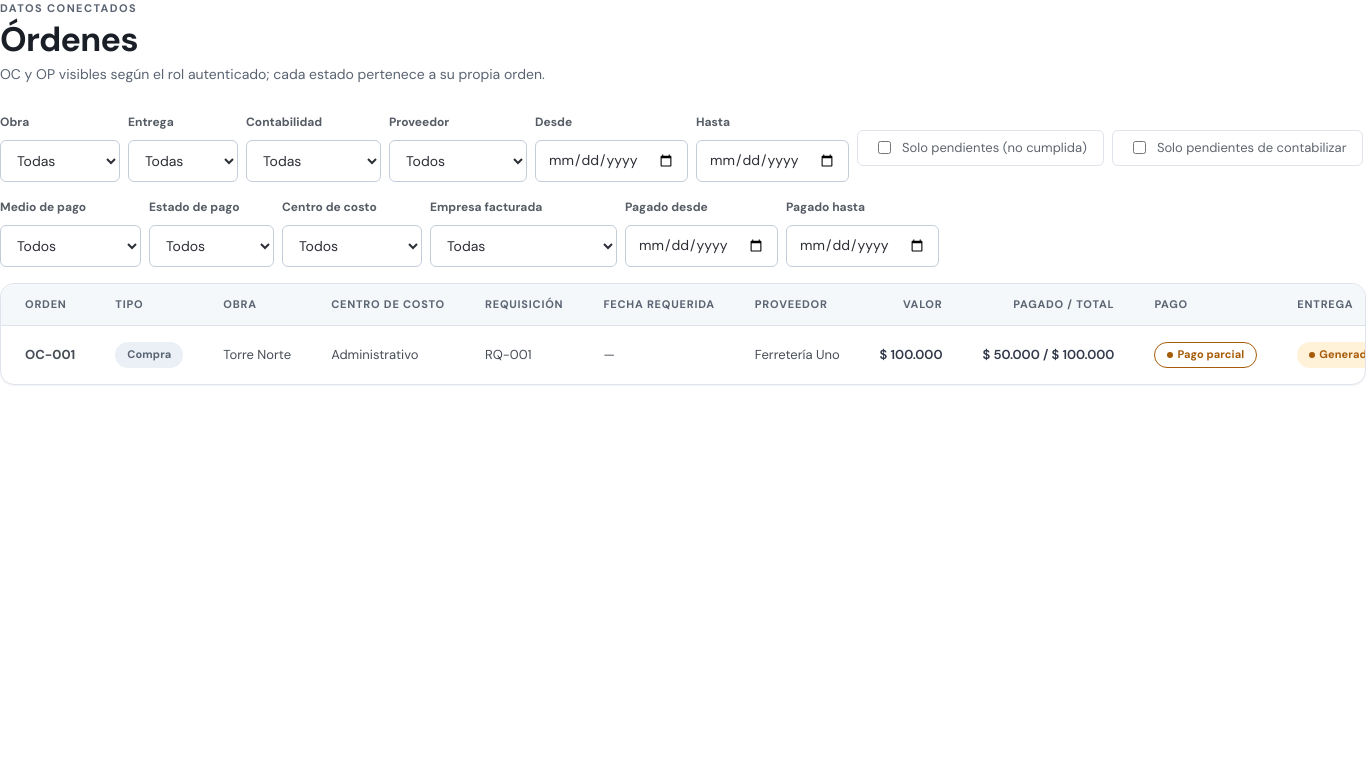
Test case: diálogo de pago: medio con etiqueta de caja, nota y validación inline › contabilidad ya no ve «Registrar pago»: la ficha explica que no le corresponde
Click the text "OC-001": (50,354) [25,346,75,363]
(page scrolled)
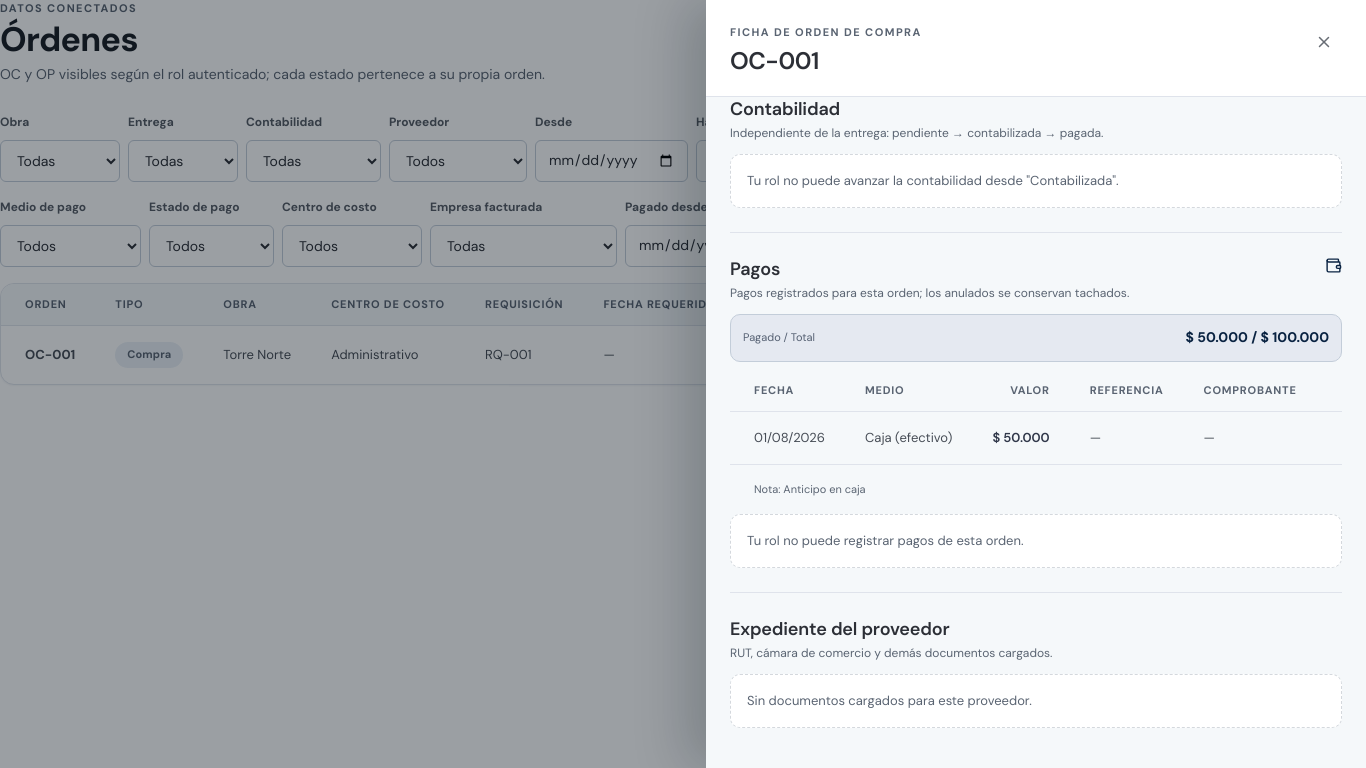
Result: the dialog "OC-001" is shown at [706,0,1365,767]
Result: the text "Tu rol no puede registrar pagos de esta orden." is shown at [730,514,1342,568]
